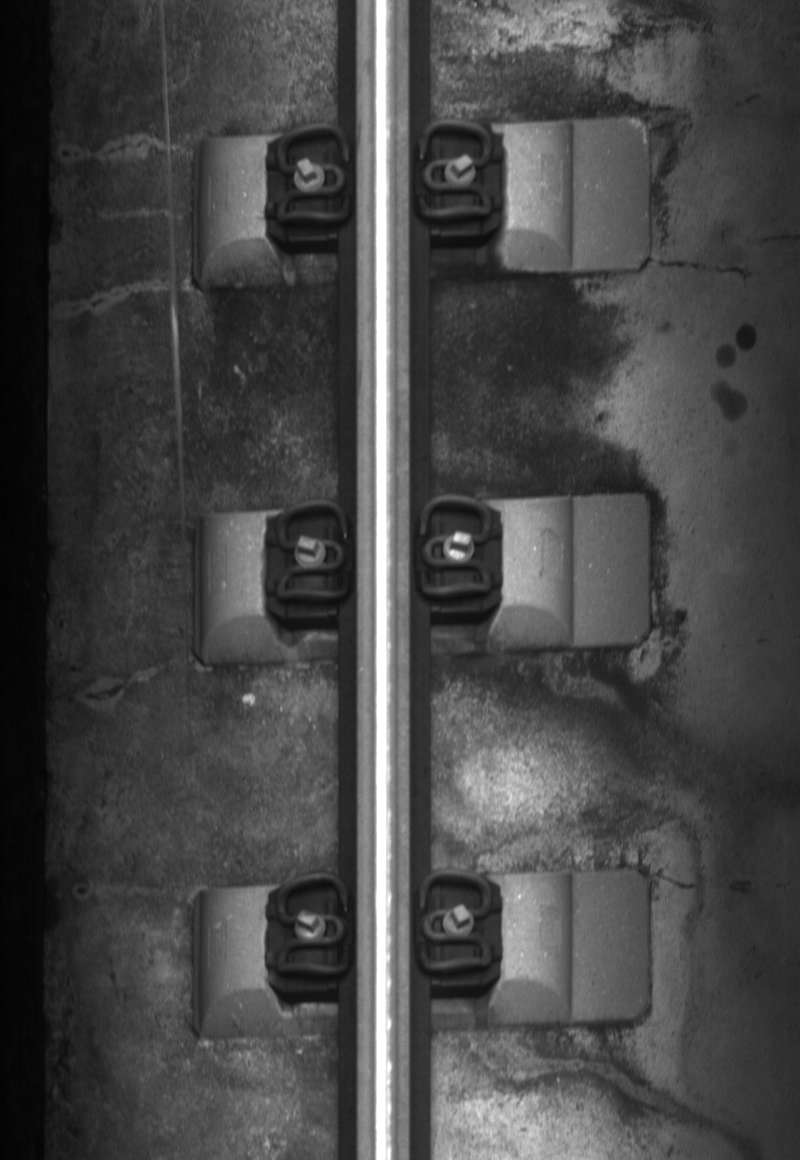l_faster: (270, 495, 354, 613), (270, 118, 354, 234), (271, 868, 354, 984)
r_faster: (412, 864, 497, 977), (414, 489, 495, 604), (414, 118, 495, 224)
